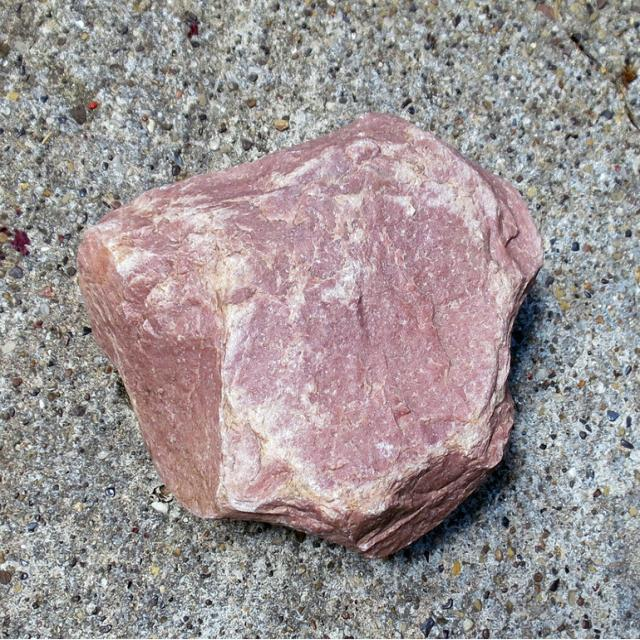Metamorphic: (72, 106, 546, 557)
